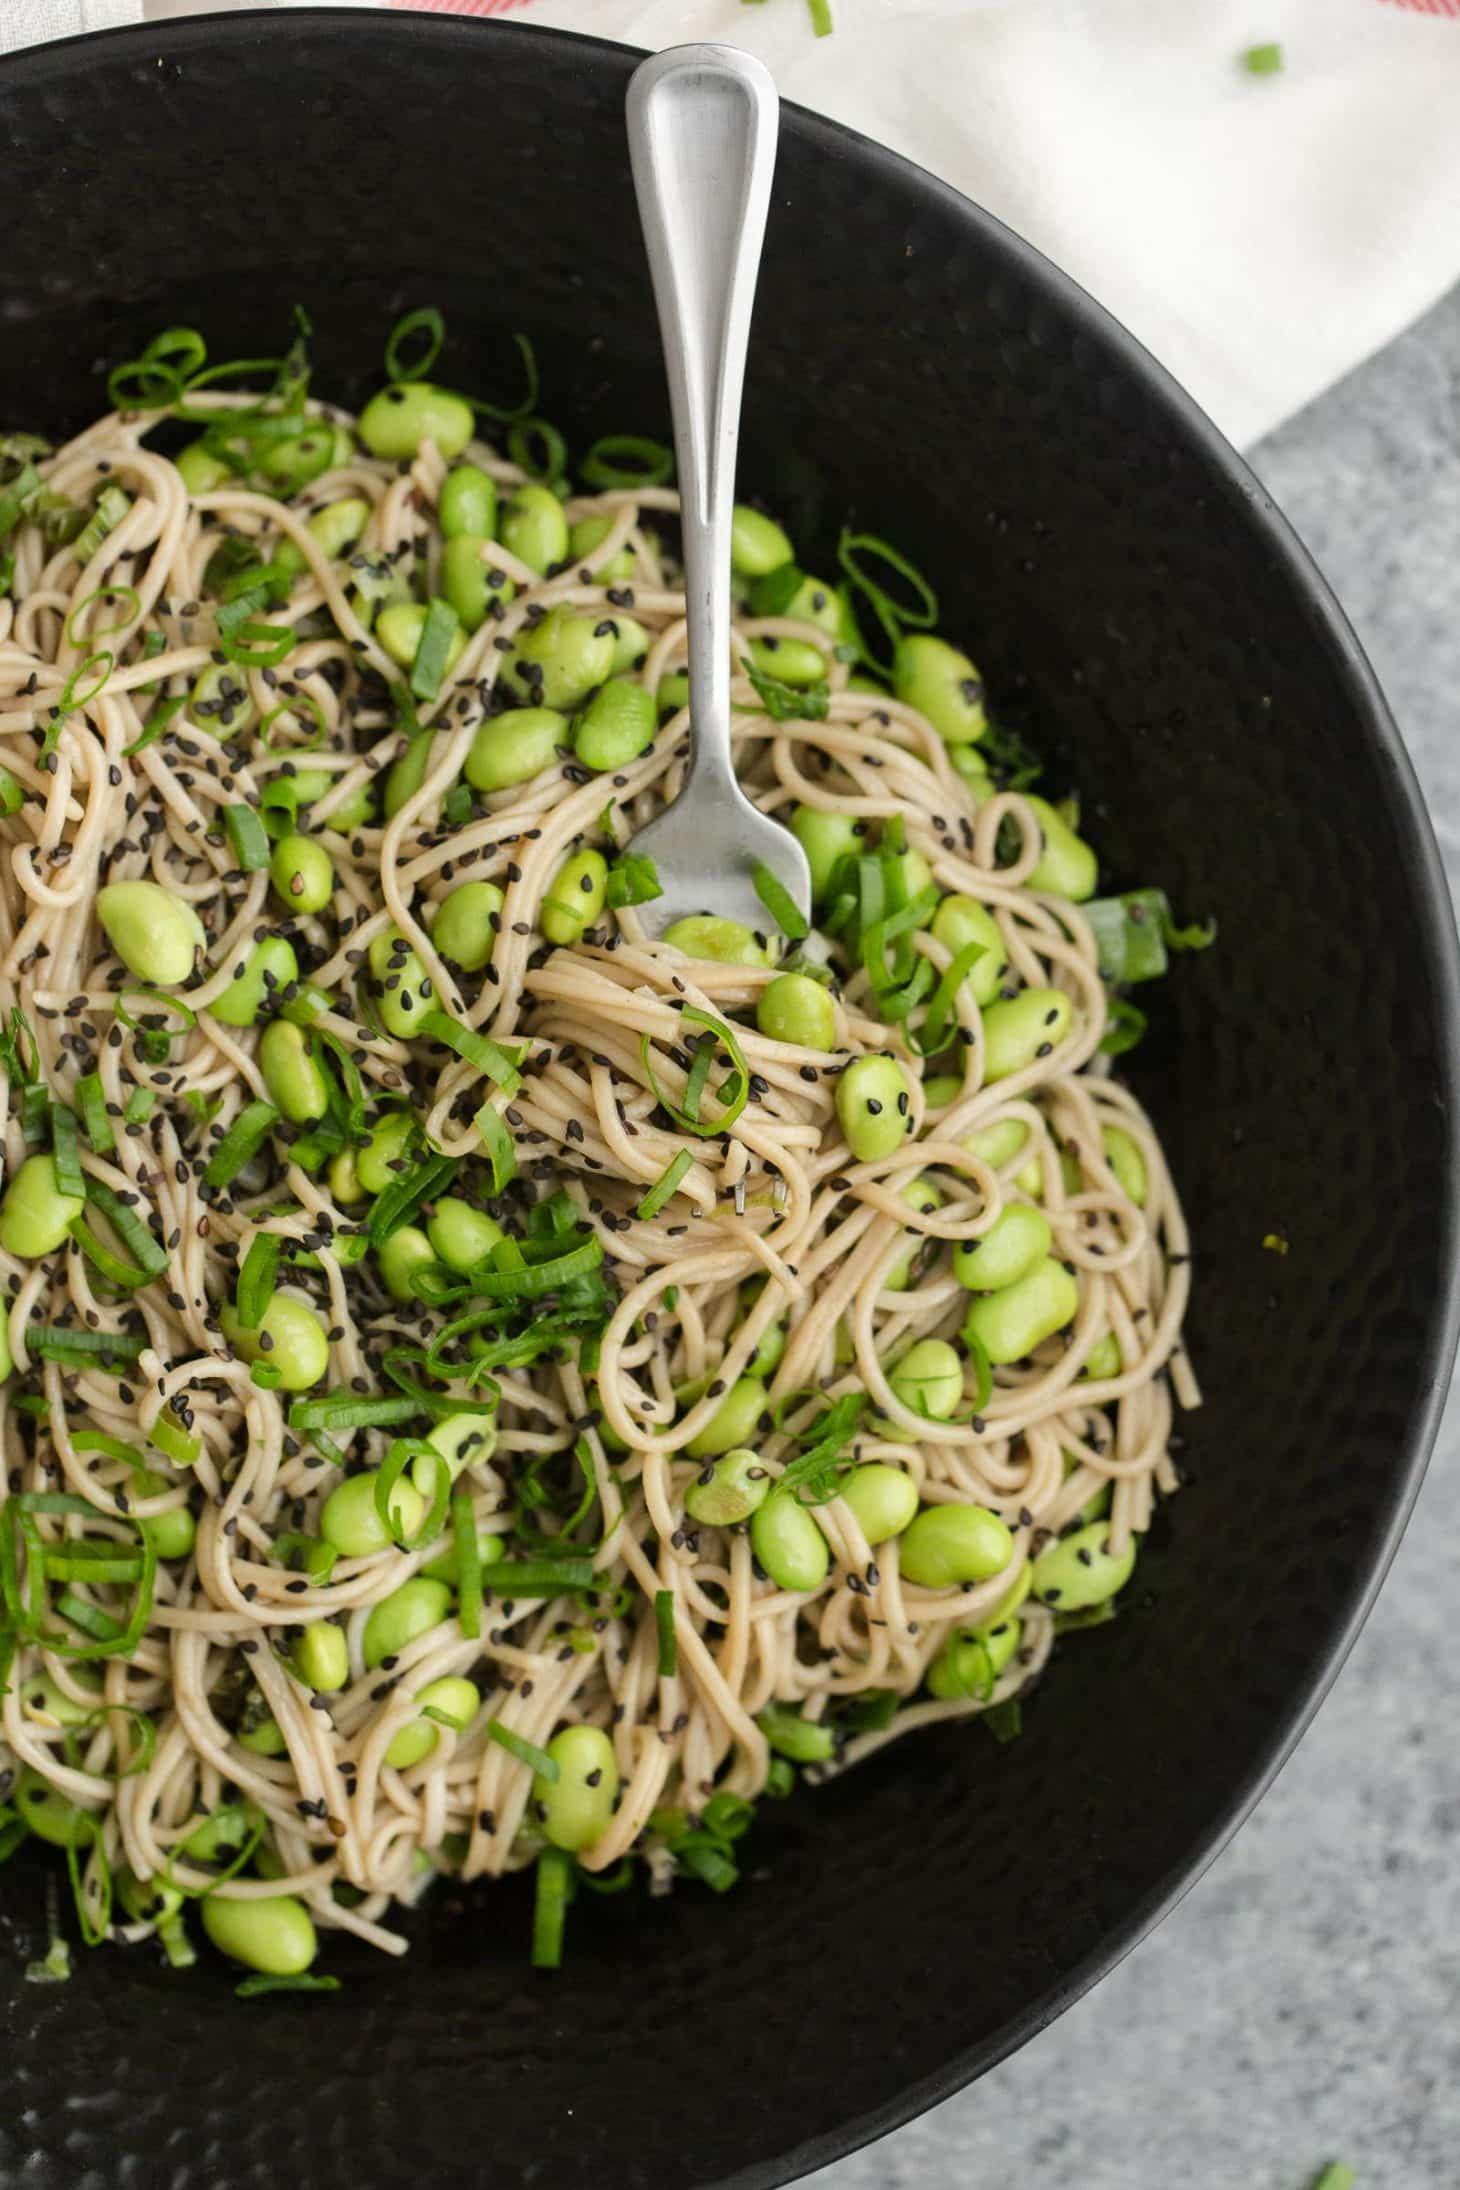Soba: (10, 385, 1159, 1960)
